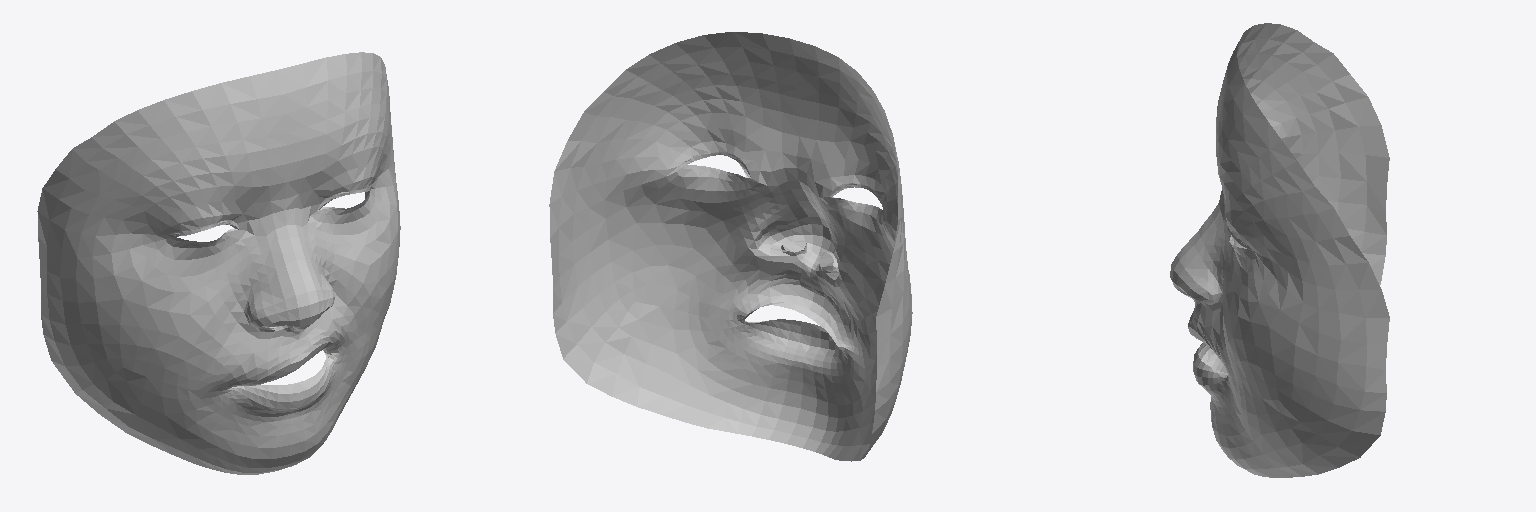
Rendered from mouthUpperUp_L.obj.
The picture shows the model from 3 angles: view 1: azimuth 30°, elevation 25°; view 2: azimuth 150°, elevation 25°; view 3: azimuth 270°, elevation 25°; orthographic projection.
Visible parts, largest first — view 1: default; view 2: default; view 3: default.
Boxes of the visible parts, box(x1,y1,x2,y2) form: default: box(37, 52, 400, 474); default: box(549, 32, 912, 461); default: box(1170, 23, 1389, 477).
Size of the model in its own units: 0.1624 by 0.1851 by 0.0914.